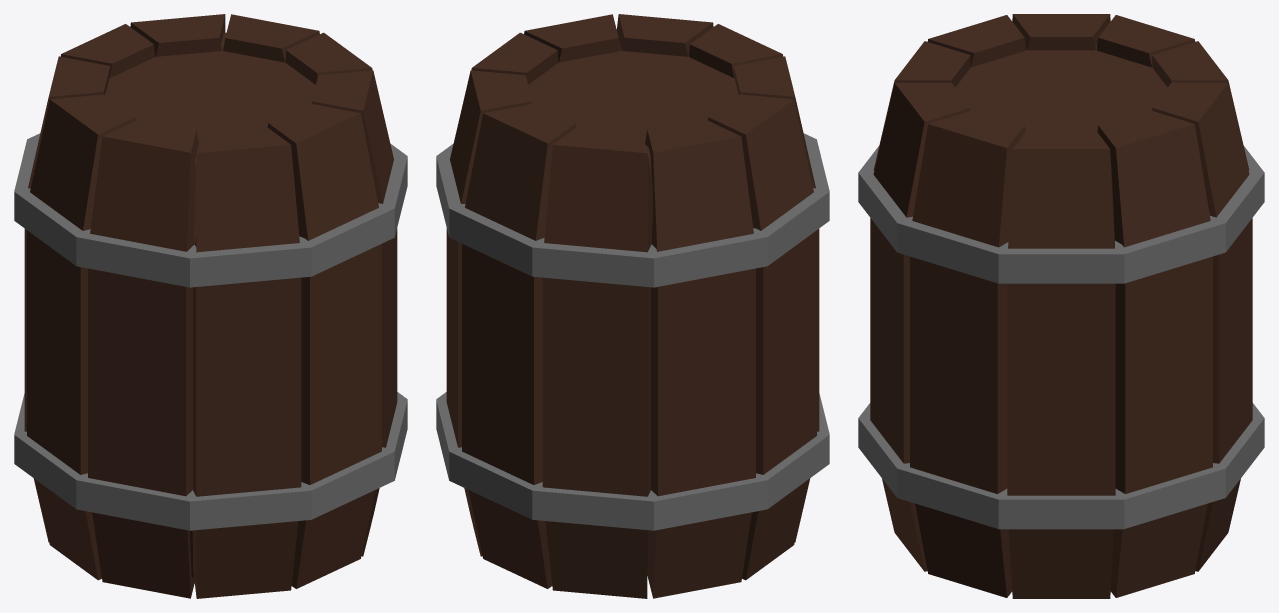
Rendered from Barrel.fbx.
3 renders of one model, left to right at view 1: azimuth 30°, elevation 25°; view 2: azimuth 150°, elevation 25°; view 3: azimuth 270°, elevation 25°, orthographic.
Visible parts, largest first — view 1: Barrel; view 2: Barrel; view 3: Barrel.
Part boxes in pixels (box(x1,y1,x2,y2)): Barrel: box(14, 14, 407, 598); Barrel: box(436, 14, 829, 598); Barrel: box(858, 14, 1264, 598).
Bounding box in the file's own units: 171 × 220 × 180.
